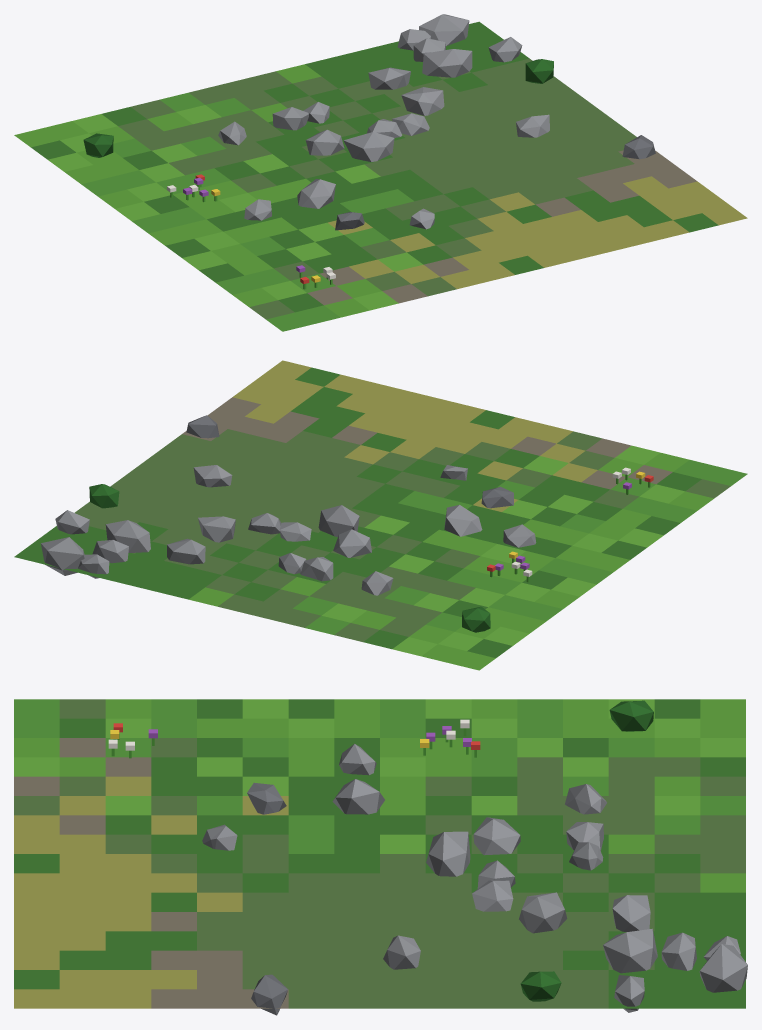
The model's file is chunk_8_16.glb.
3 renders of one model, top to bottom at view 1: azimuth 30°, elevation 25°; view 2: azimuth 150°, elevation 25°; view 3: azimuth 270°, elevation 25°, orthographic. The views are drawn at different scales.
Visible parts, largest first — view 1: chunk_8_16; view 2: chunk_8_16; view 3: chunk_8_16.
Boxes of the visible parts, left/top/right/bottom form: chunk_8_16: left=14, top=14, right=747, bottom=331; chunk_8_16: left=14, top=360, right=747, bottom=670; chunk_8_16: left=14, top=699, right=747, bottom=1015.
Size of the model in its own units: 16.03 by 1.27 by 16.04.
